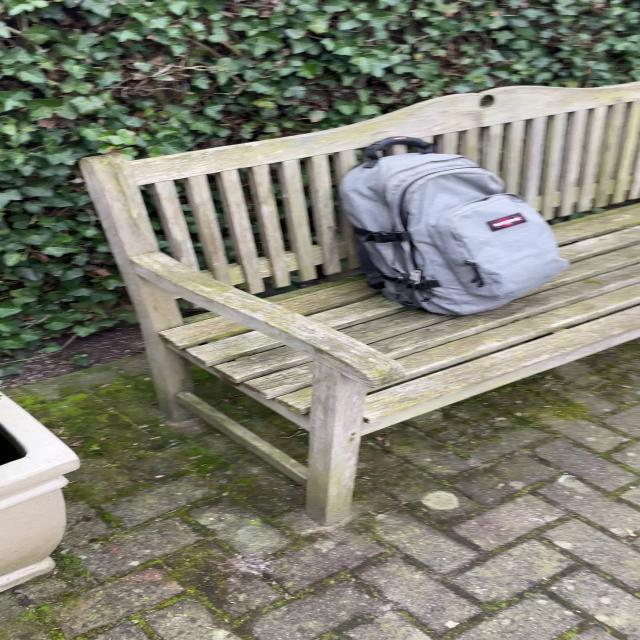backpack: (331, 132, 574, 320)
